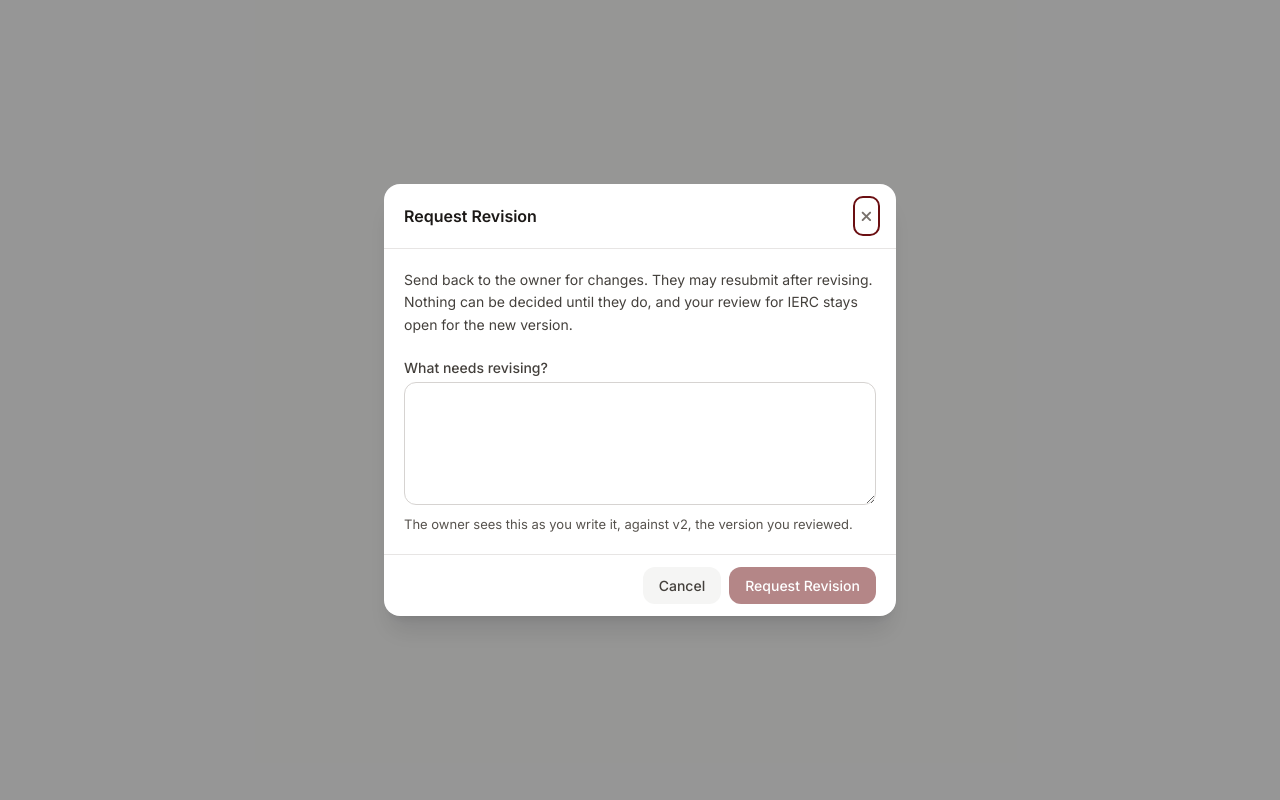
Test: RequestRevisionDialog › keeps the typed reason beside the server's when the record moved
This screenshot has width=1280, height=800.
Type "Sampling frame is unclear." into the text box labelled "What needs revising?". click: (640, 443)
box: [404,382,876,505]
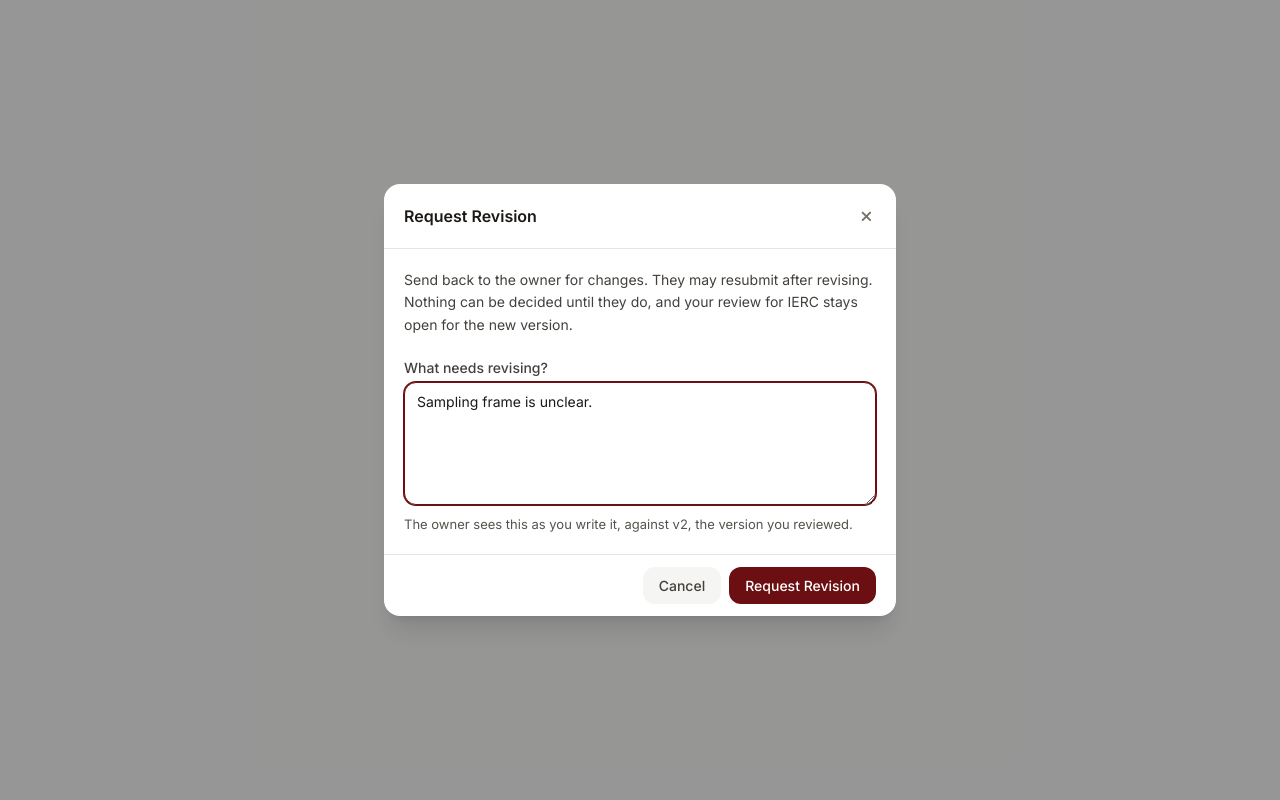
Click the button "Request Revision". click: (803, 586)
box: [729,567,876,604]
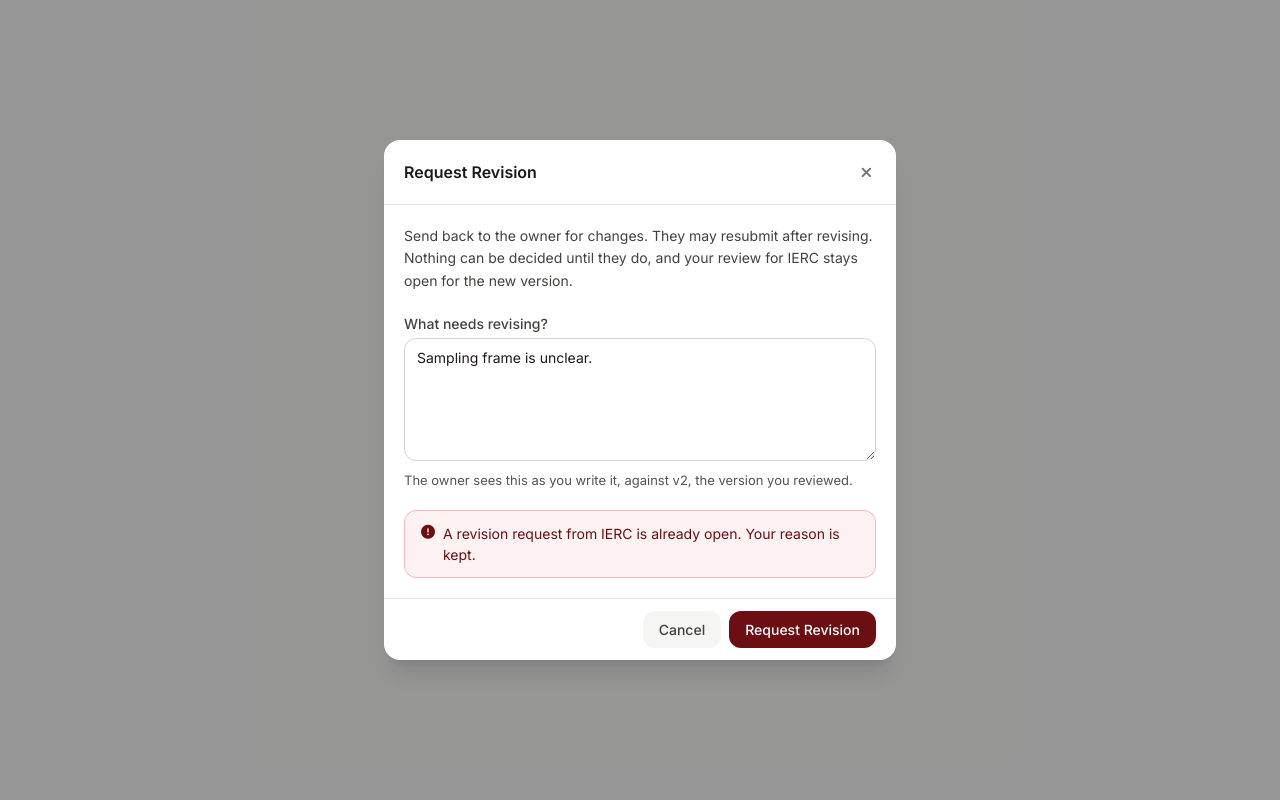
Check: the message shows "A revision request from IERC is already open.", box [443,525,840,563]
Check: the message shows "Your reason is kept.", box [443,525,840,563]
